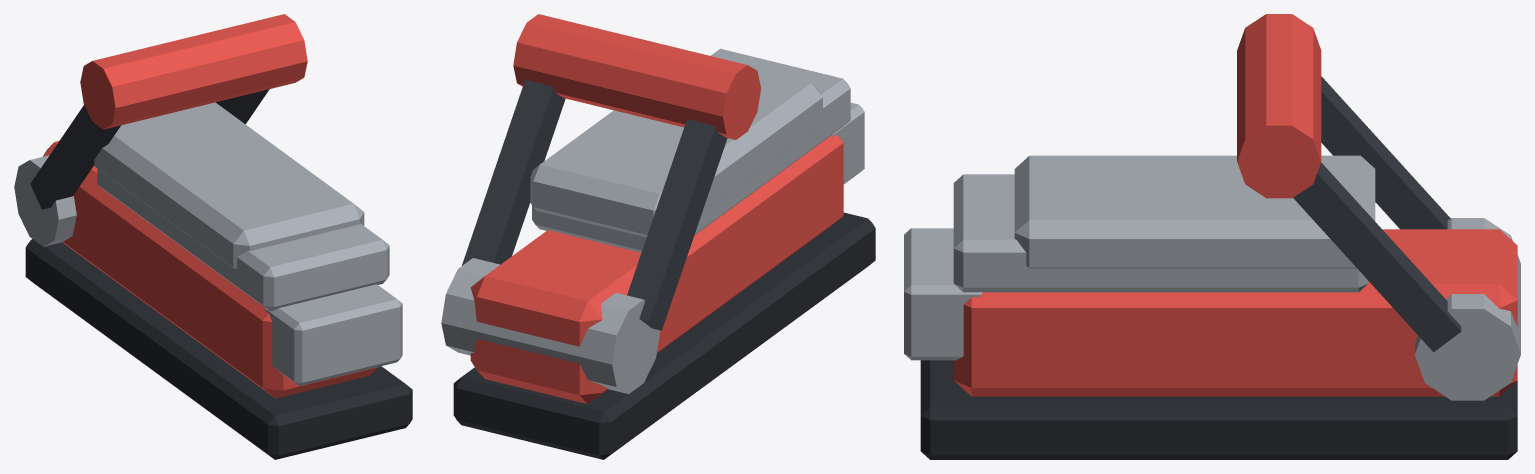
Rendered from artillery_m0_2.glb.
3 renders of one model, left to right at view 1: azimuth 30°, elevation 25°; view 2: azimuth 150°, elevation 25°; view 3: azimuth 270°, elevation 25°, orthographic. The views are drawn at different scales.
Visible parts, largest first — view 1: artillery_m0_2_mesh; view 2: artillery_m0_2_mesh; view 3: artillery_m0_2_mesh.
Part boxes in pixels (x1,y1,x2,y2): artillery_m0_2_mesh: (14, 14, 412, 459); artillery_m0_2_mesh: (441, 14, 875, 459); artillery_m0_2_mesh: (904, 14, 1520, 459).
Size of the model in its own units: 0.22 by 0.3233 by 0.5134.
